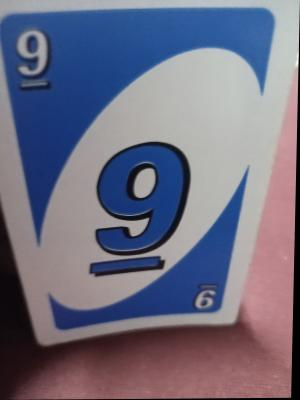blue: (11, 12, 249, 313)
num_9: (11, 24, 59, 96), (193, 278, 226, 311)
